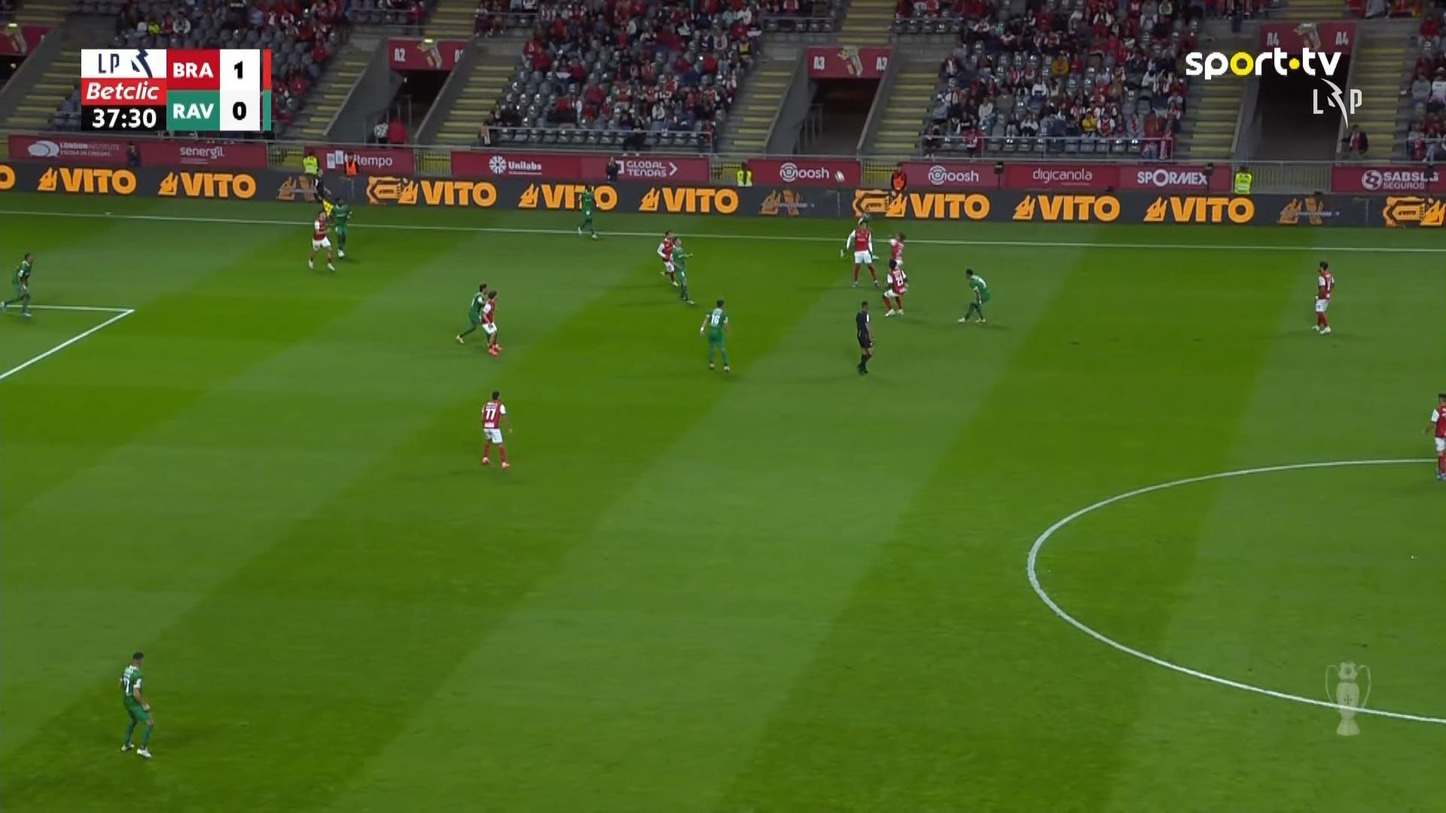player: (119, 650, 154, 758), (840, 216, 880, 288), (479, 389, 512, 469), (699, 298, 731, 372), (0, 251, 34, 318), (454, 282, 489, 345), (1422, 391, 1444, 480), (956, 267, 990, 324), (307, 209, 336, 271), (1312, 260, 1335, 334), (670, 237, 694, 304), (478, 289, 502, 355), (881, 258, 908, 316), (329, 196, 352, 257), (656, 229, 679, 286), (575, 183, 598, 239), (887, 230, 907, 273)
referee: (854, 300, 874, 374), (314, 168, 335, 221)
